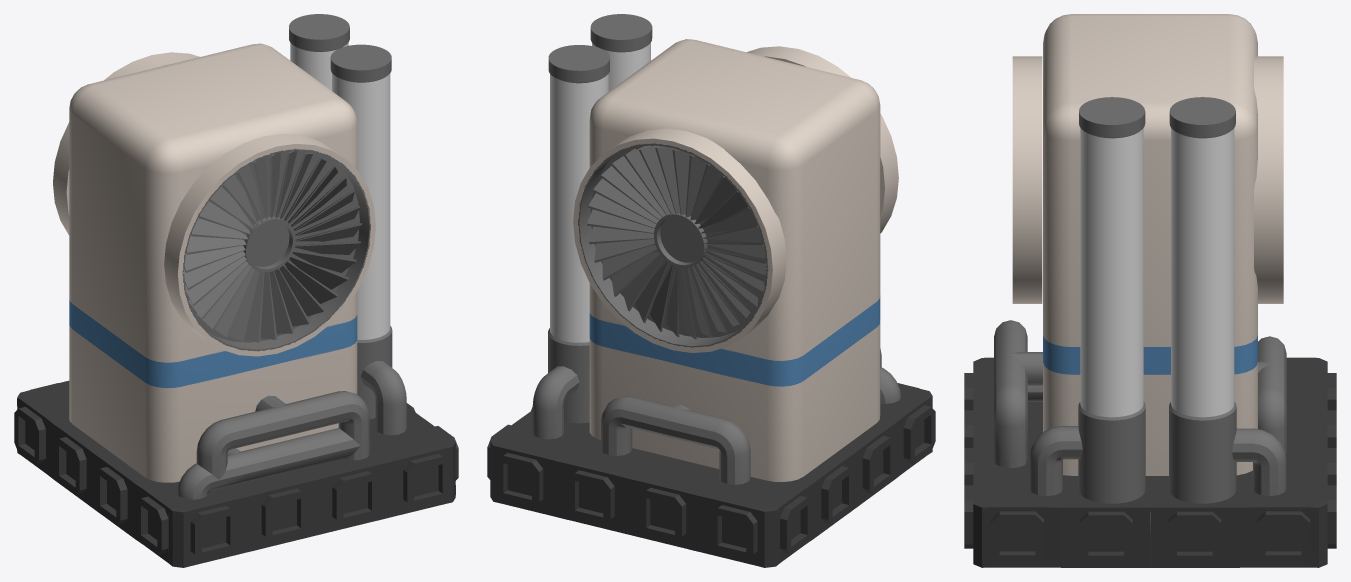
File: AtmosphericExtractor.fbx
3 views of the same model, side by side, from view 1: azimuth 30°, elevation 25°; view 2: azimuth 150°, elevation 25°; view 3: azimuth 270°, elevation 25° (orthographic). The views are drawn at different scales.
Visible parts, largest first — view 1: Cube.010, Base4x4, Cube.008; view 2: Cube.010, Base4x4, Cube.008; view 3: Cube.010, Base4x4, Cube.008.
Boxes of the visible parts, x1,y1,x2,y2 form: Cube.010: (53, 14, 406, 499); Base4x4: (14, 380, 458, 567); Cube.008: (290, 42, 390, 339); Cube.010: (532, 14, 901, 484); Base4x4: (487, 383, 935, 567); Cube.008: (550, 43, 650, 342); Cube.010: (993, 14, 1286, 531); Base4x4: (964, 357, 1336, 567); Cube.008: (1080, 128, 1234, 417).
Bounding box in the file's own units: 420 × 556 × 420.
Materials: 2 (1 with a texture image).
